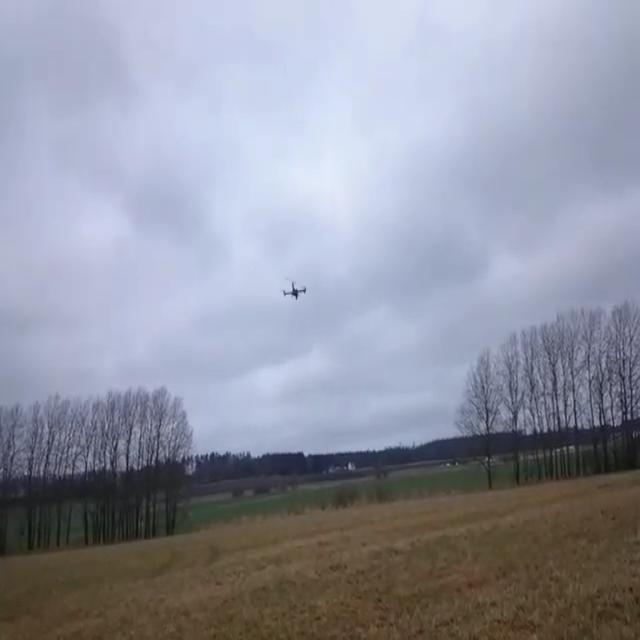Drone: (268, 272, 316, 308)
